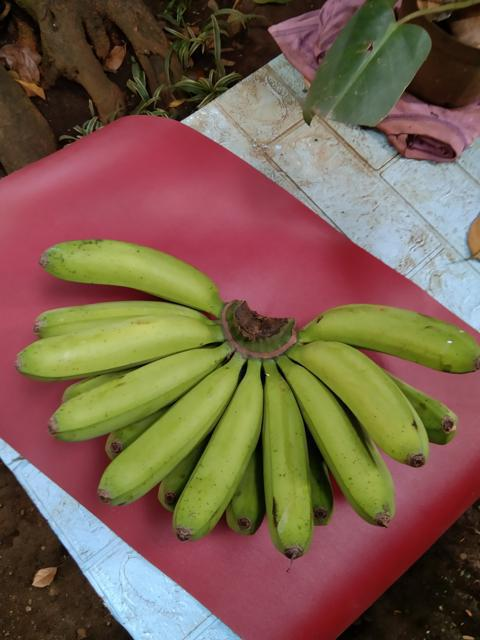freshunripe: (92, 356, 238, 513), (42, 336, 237, 445), (282, 363, 397, 531), (300, 334, 433, 474), (38, 226, 235, 319), (169, 364, 263, 544), (14, 299, 217, 376)
unripe: (252, 364, 326, 561), (309, 296, 479, 373)
